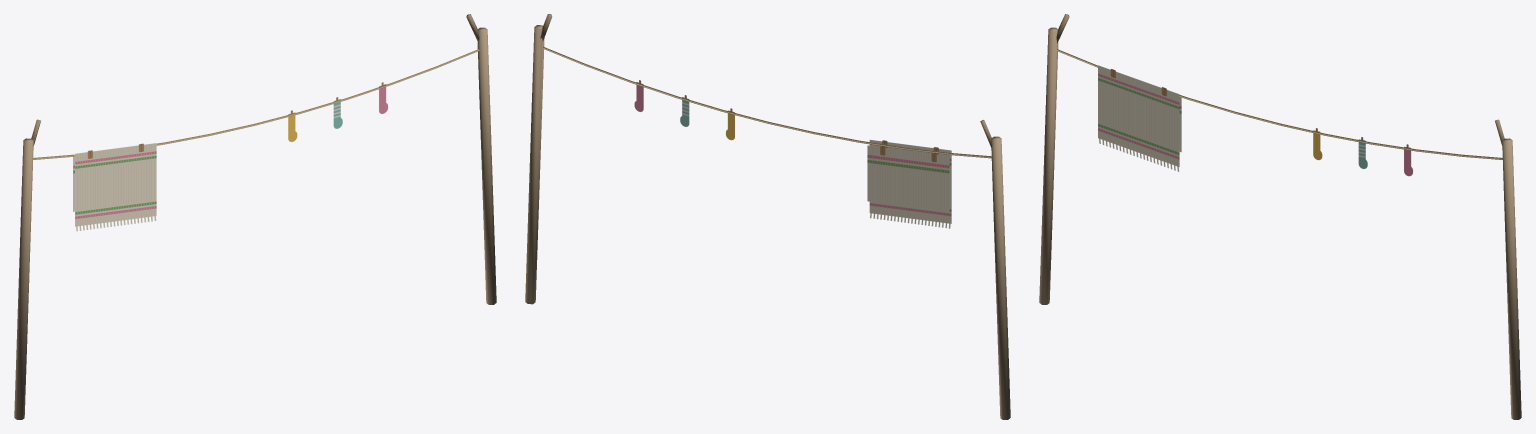
Rendered from laundry.glb.
3 renders of one model, left to right at view 1: azimuth 30°, elevation 25°; view 2: azimuth 150°, elevation 25°; view 3: azimuth 330°, elevation 25°, orthographic.
Parts seen in each view (by area): view 1: LaundryCloth, LaundryPosts; view 2: LaundryCloth, LaundryPosts; view 3: LaundryCloth, LaundryPosts.
Part boxes in pixels (x1=…): LaundryCloth: x1=33, y1=49, x2=479, y2=231; LaundryPosts: x1=14, y1=14, x2=496, y2=419; LaundryCloth: x1=543, y1=46, x2=991, y2=228; LaundryPosts: x1=525, y1=14, x2=1010, y2=419; LaundryCloth: x1=1056, y1=49, x2=1502, y2=176; LaundryPosts: x1=1039, y1=14, x2=1521, y2=419.
Size of the model in its own units: 3.17 by 1.85 by 0.0659.
2 materials, 1 textured.
